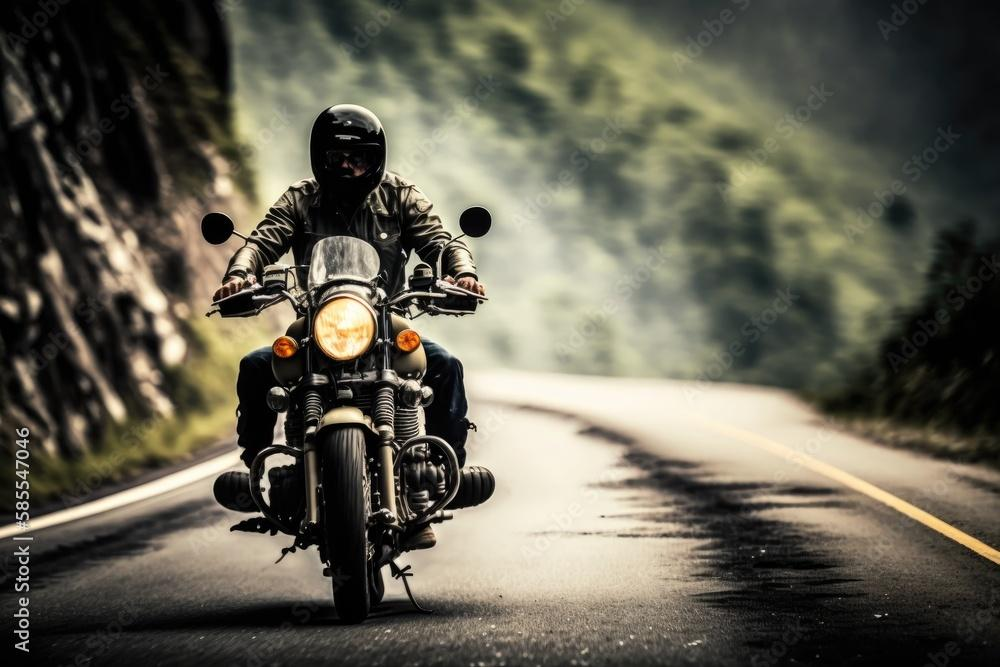helmet: (309, 103, 387, 204)
